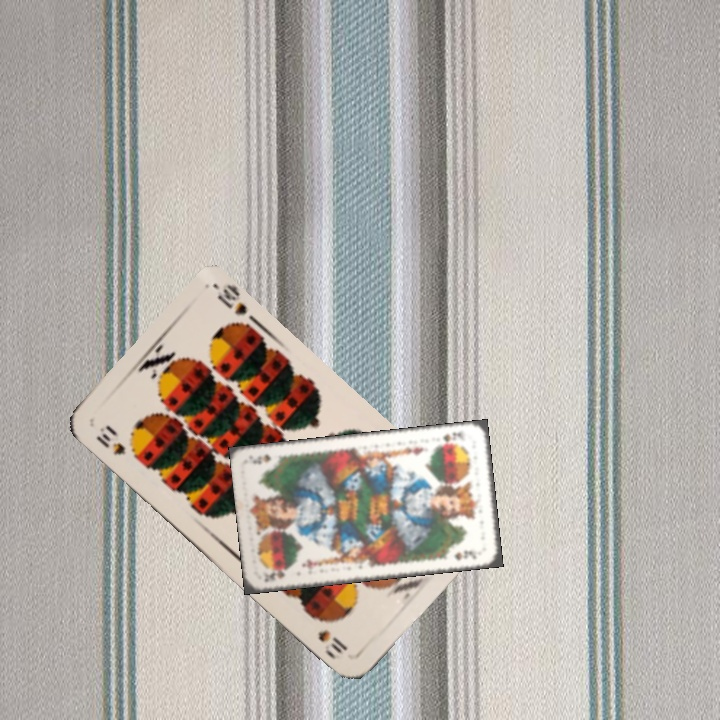S10: (91, 423, 129, 458)
SK: (260, 565, 292, 585), (433, 428, 466, 447)
